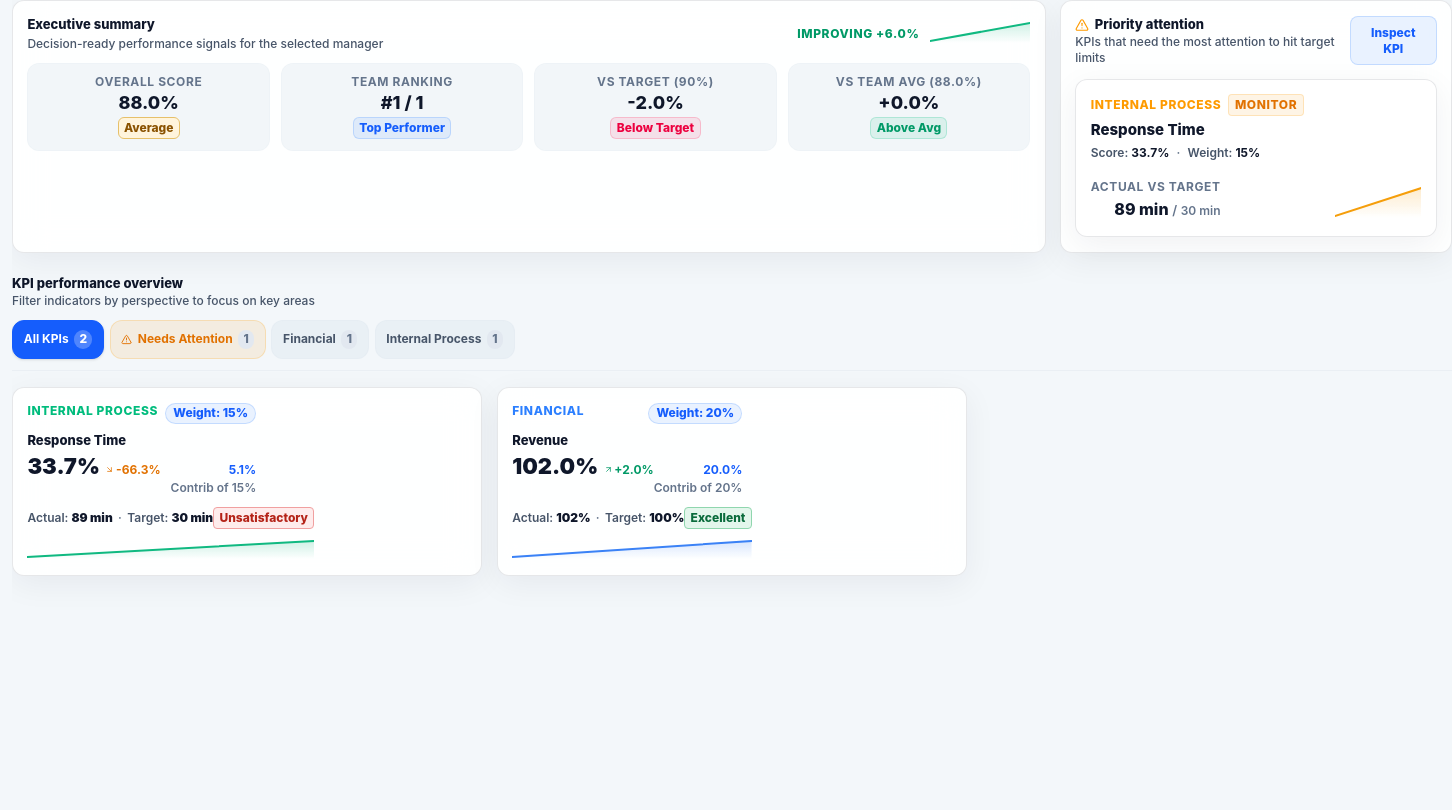
Test: ManagerSummarySection › exposes accessible KPI filters and filters the responsive card grid
Expected: the element named "Filter KPI cards by perspective" is shown, [12,320,515,359]
Expected: the button "Response Time" is shown, [12,387,482,576]
Step 1. Click the tab "Needs Attention 1" → (188,339), box [110,320,266,359]
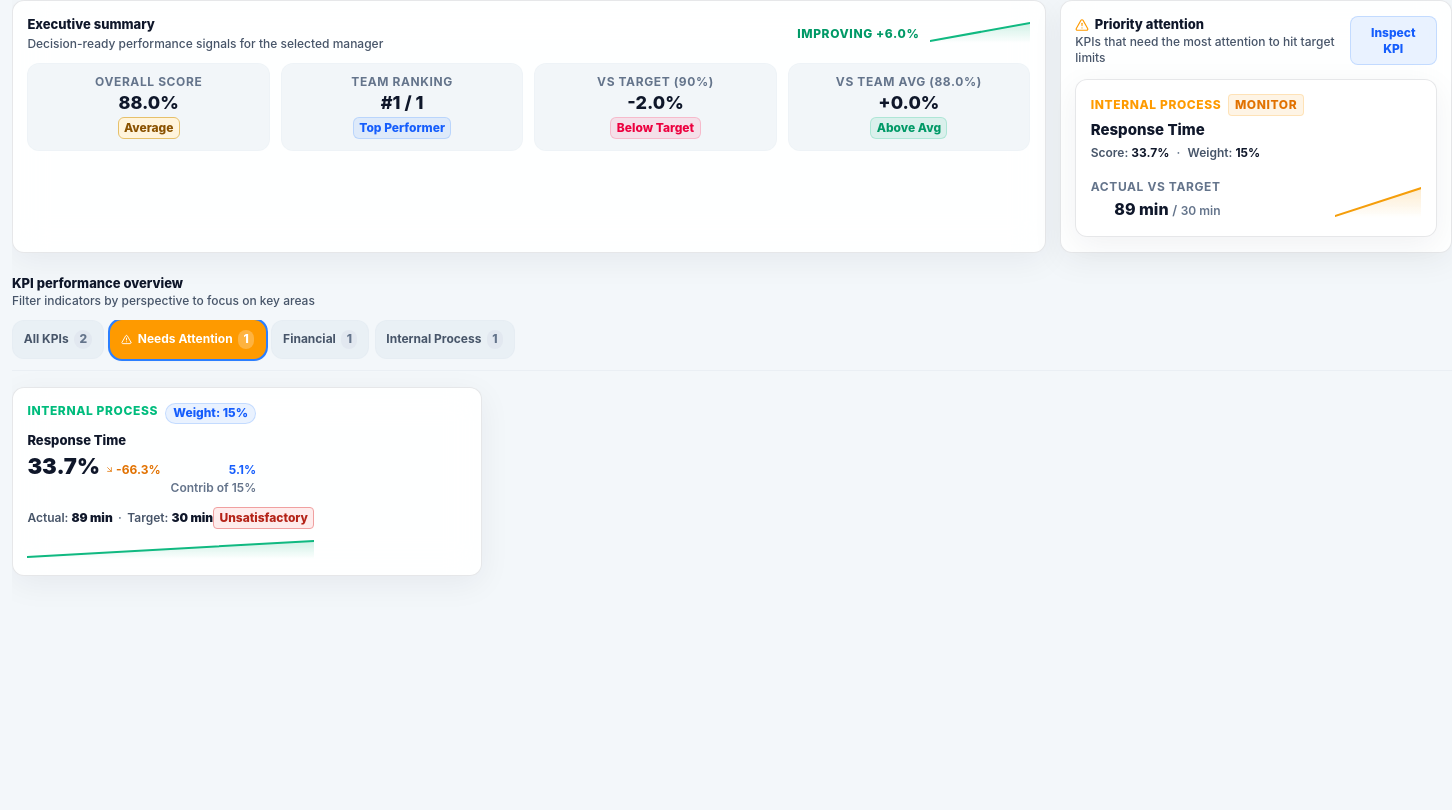
Expected: the button "Response Time" is shown, [12,387,482,576]
Result: the button "Revenue" is gone
